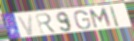9: (56, 11, 74, 33)
G: (74, 10, 93, 31)
I: (109, 5, 121, 28)
M: (89, 8, 113, 29)
R: (34, 12, 59, 35)
V: (16, 14, 35, 37)
